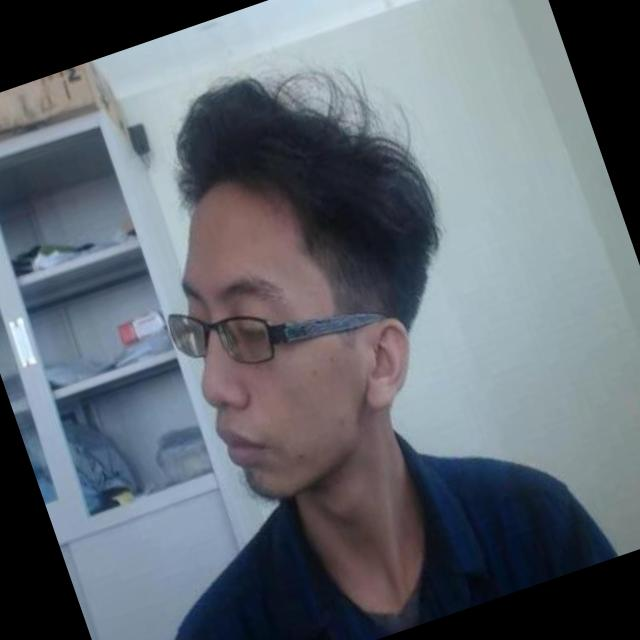bareface: (66, 26, 540, 544)
